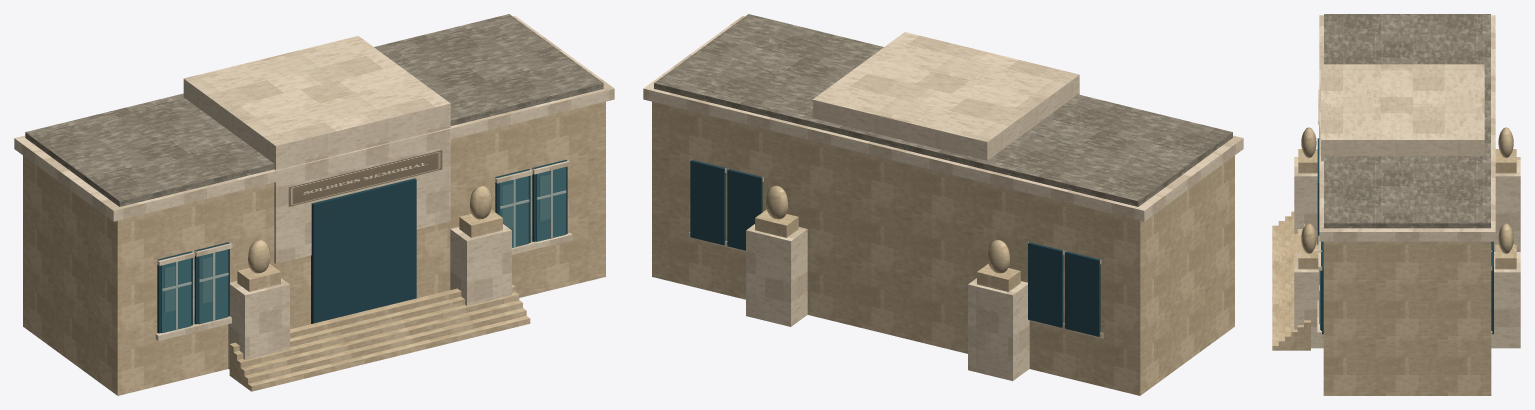
Rendered from civic.glb.
3 views of the same model, side by side, from view 1: azimuth 30°, elevation 25°; view 2: azimuth 150°, elevation 25°; view 3: azimuth 270°, elevation 25° (orthographic). The views are drawn at different scales.
Visible parts, largest first — view 1: Soldiers Memorial on Chestnut · Limestone, Soldiers Memorial on Chestnut · Ivory, Soldiers Memorial on Chestnut · Roof, Soldiers Memorial on Chestnut · Glass dark, Soldiers Memorial on Chestnut · Glass, Soldiers Memorial on Chestnut · Soldiers sign, Soldiers Memorial on Chestnut · Glass light, Soldiers Memorial on Chestnut · Light metal; view 2: Soldiers Memorial on Chestnut · Limestone, Soldiers Memorial on Chestnut · Ivory, Soldiers Memorial on Chestnut · Roof, Soldiers Memorial on Chestnut · Glass dark; view 3: Soldiers Memorial on Chestnut · Limestone, Soldiers Memorial on Chestnut · Ivory, Soldiers Memorial on Chestnut · Roof, Soldiers Memorial on Chestnut · Glass dark.
Part boxes in pixels (x1,y1,x2,y2): Soldiers Memorial on Chestnut · Limestone: (23, 101, 605, 395); Soldiers Memorial on Chestnut · Ivory: (14, 16, 614, 369); Soldiers Memorial on Chestnut · Roof: (25, 14, 603, 206); Soldiers Memorial on Chestnut · Glass dark: (157, 160, 567, 333); Soldiers Memorial on Chestnut · Glass: (161, 167, 565, 333); Soldiers Memorial on Chestnut · Soldiers sign: (288, 150, 442, 206); Soldiers Memorial on Chestnut · Glass light: (164, 174, 550, 312); Soldiers Memorial on Chestnut · Light metal: (162, 170, 566, 330); Soldiers Memorial on Chestnut · Limestone: (652, 101, 1234, 395); Soldiers Memorial on Chestnut · Ivory: (643, 16, 1243, 380); Soldiers Memorial on Chestnut · Roof: (654, 14, 1232, 206); Soldiers Memorial on Chestnut · Glass dark: (690, 160, 1100, 336); Soldiers Memorial on Chestnut · Limestone: (1272, 127, 1516, 395); Soldiers Memorial on Chestnut · Ivory: (1294, 15, 1520, 348); Soldiers Memorial on Chestnut · Roof: (1324, 14, 1490, 228); Soldiers Memorial on Chestnut · Glass dark: (1317, 138, 1493, 334).
Bounding box in the file's own units: 9.17 × 3.72 × 4.45.
Materials: 8 (4 with a texture image).
